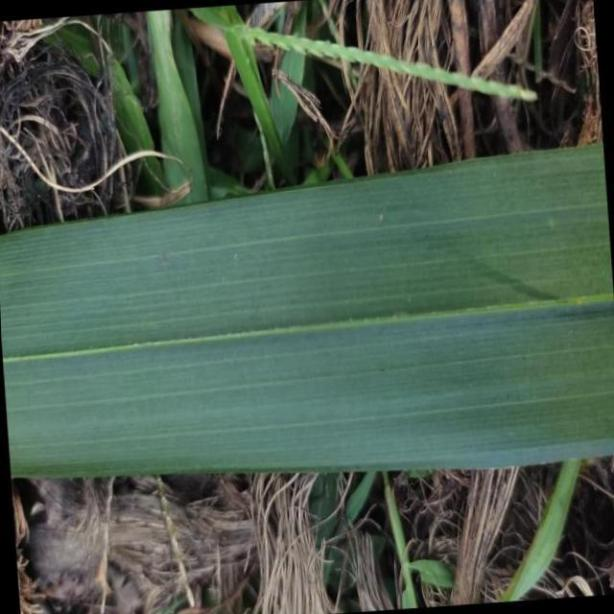Healthy: (0, 145, 614, 483)
